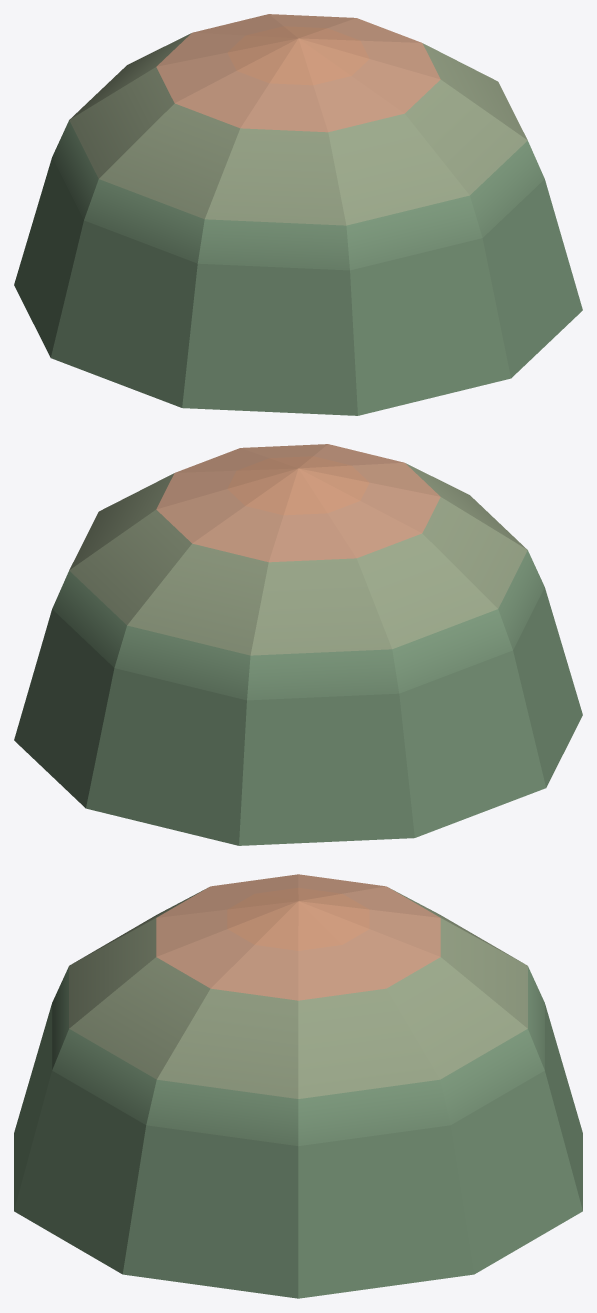
File: plante_1_etape_1_v1.fbx
3 views of the same model, one above another, from view 1: azimuth 30°, elevation 25°; view 2: azimuth 150°, elevation 25°; view 3: azimuth 270°, elevation 25° (orthographic). The views are drawn at different scales.
Visible parts, largest first — view 1: stage_1_v1; view 2: stage_1_v1; view 3: stage_1_v1.
Part boxes in pixels (x1,y1,x2,y2): stage_1_v1: (14, 14, 582, 415); stage_1_v1: (14, 444, 582, 845); stage_1_v1: (14, 874, 582, 1298).
Size of the model in its own units: 0.8858 by 0.4429 by 0.8424.
